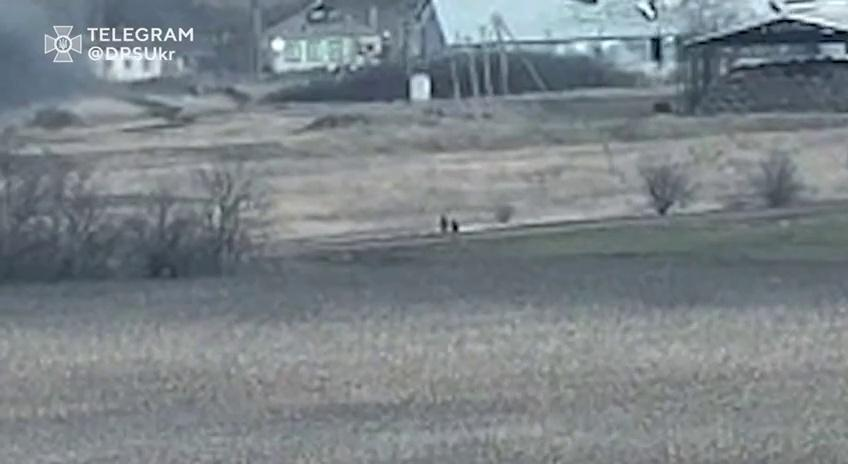person: (439, 214, 447, 234), (450, 218, 458, 233)
